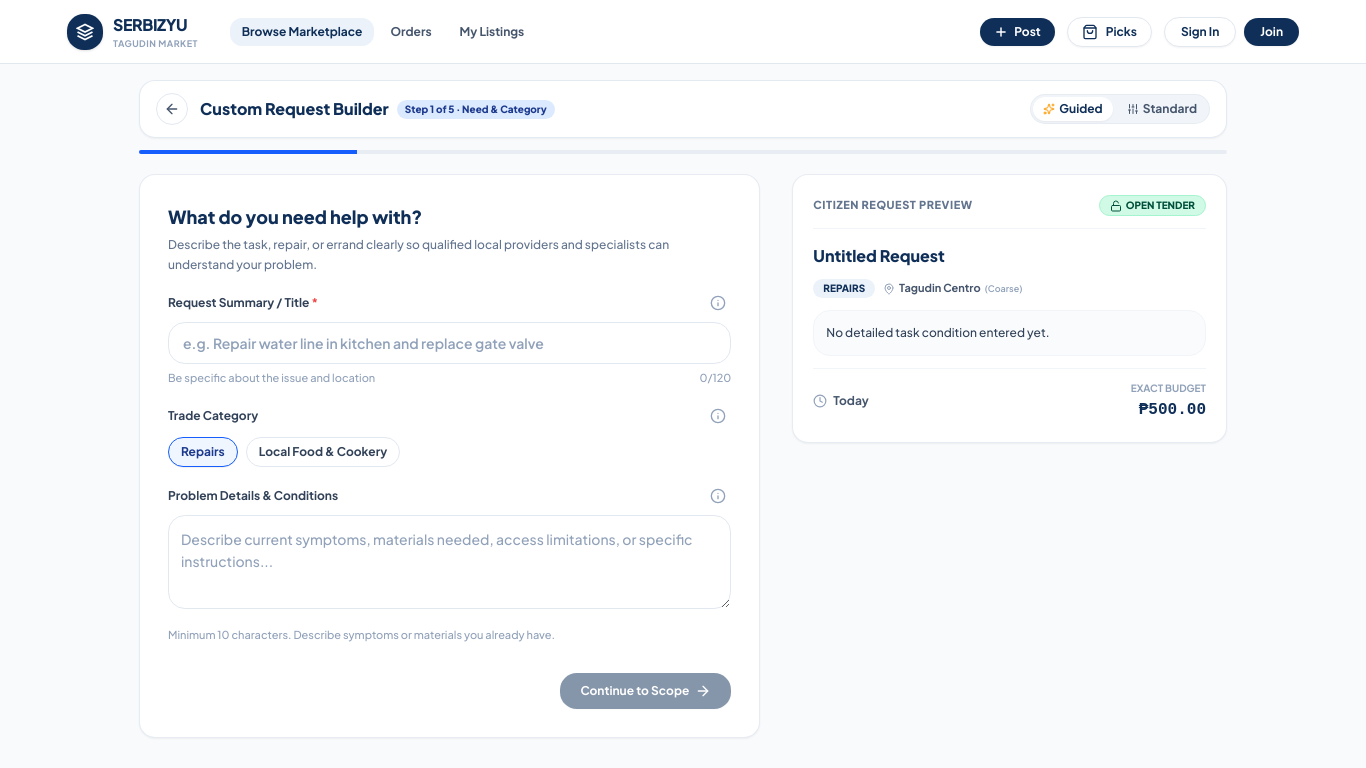
it: CreateRequest Page › adaptively updates pipeline template and task suggestions when category changes
Switch category to local-food in Step 1
Step 1. Click the button "Local Food & Cookery" → [323, 452], box 246,436 -> 400,466
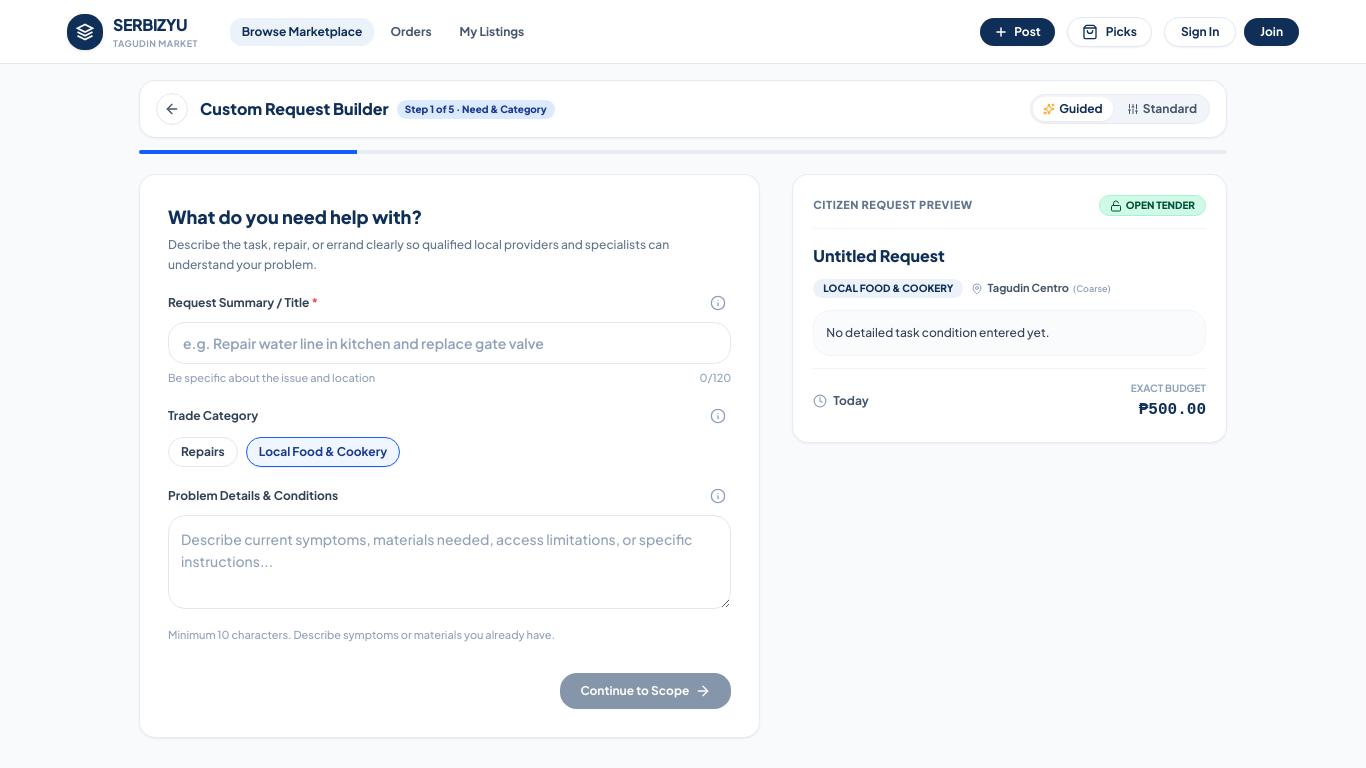
Advance to Step 2
Step 2. Type "Order 20 boxes bibingka" into the field with test id "request-title-input" → [450, 343], box 168,322 -> 731,364
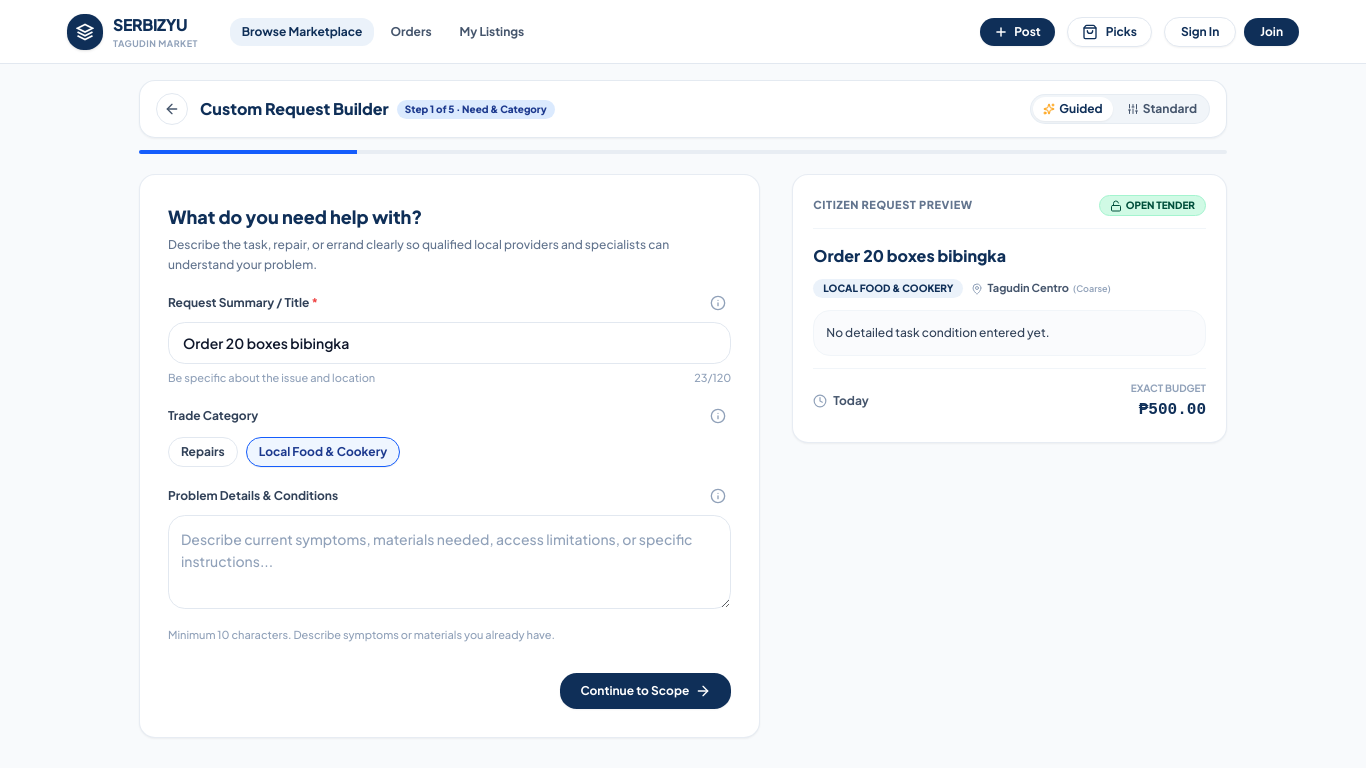
Step 3. Click the button "Continue to Scope" → [646, 691], box 560,673 -> 731,709
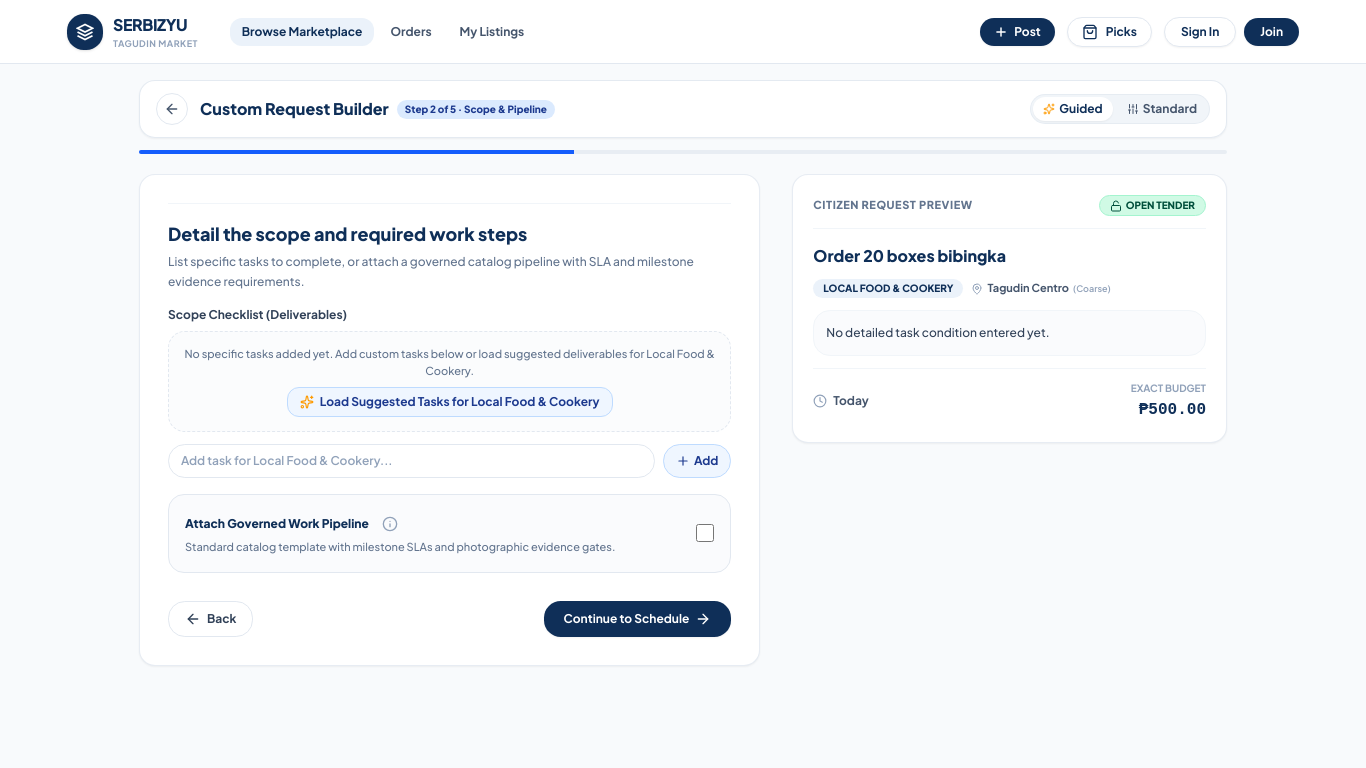
Now the text "Load Suggested Tasks for Local Food & Cookery" is shown, box 320,394 -> 600,410
Step 4. Click the button with test id "load-suggested-tasks-btn" → [450, 402], box 287,387 -> 613,417
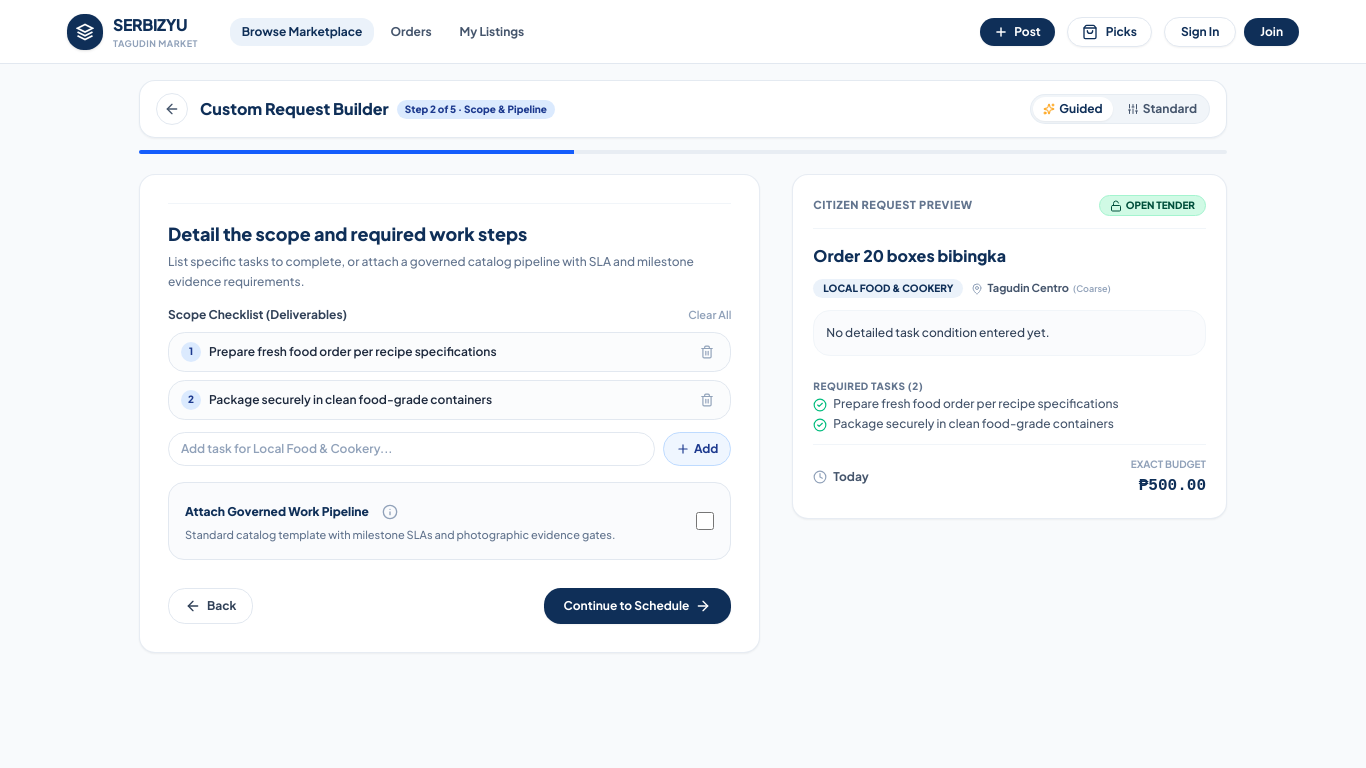
Toggle pipeline ON
Step 5. Click the checkbox with test id "attach-pipeline-toggle" → [705, 521], box 696,512 -> 714,530
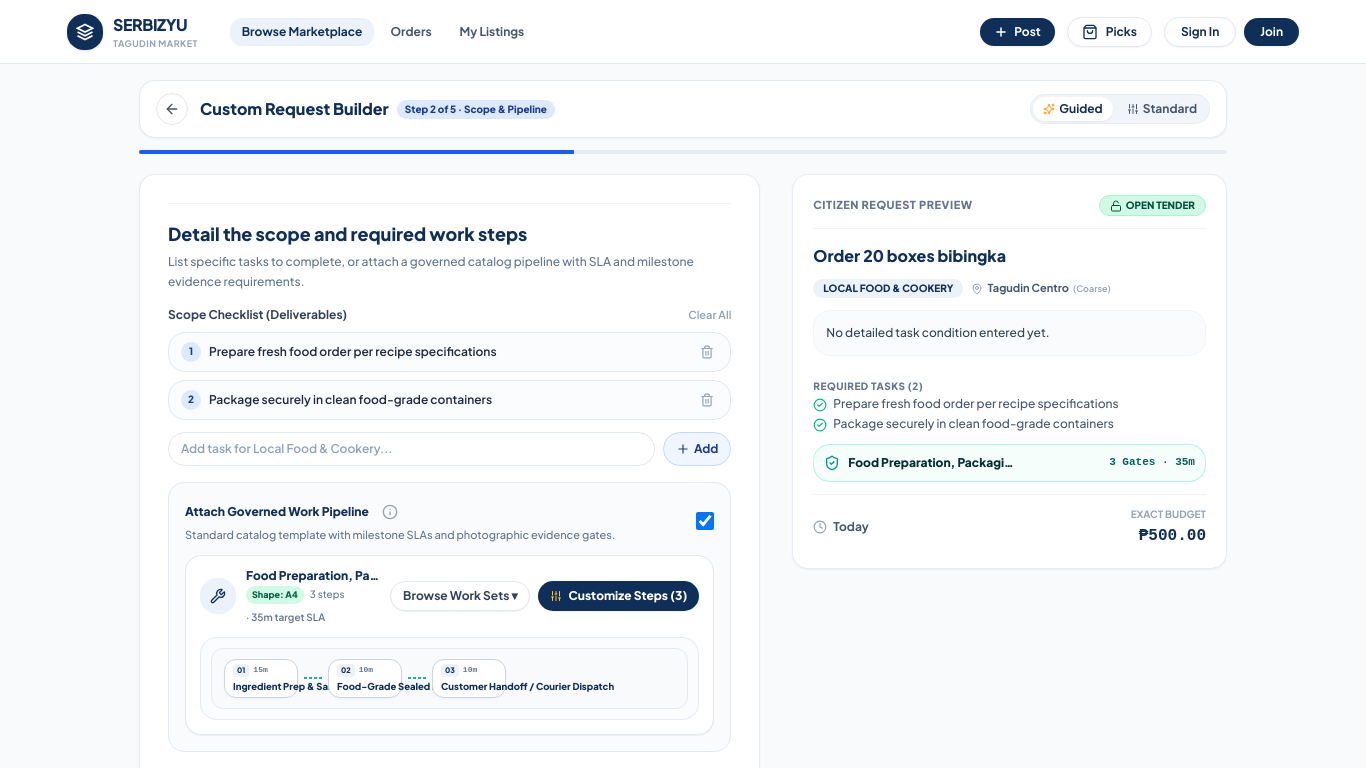
Now the text "Shape: A4" is shown, box 246,586 -> 304,604
Now the button with test id "browse-work-templates-btn" is shown, box 390,581 -> 530,611
Now the button with test id "customize-work-stages-btn" is shown, box 538,581 -> 699,611
